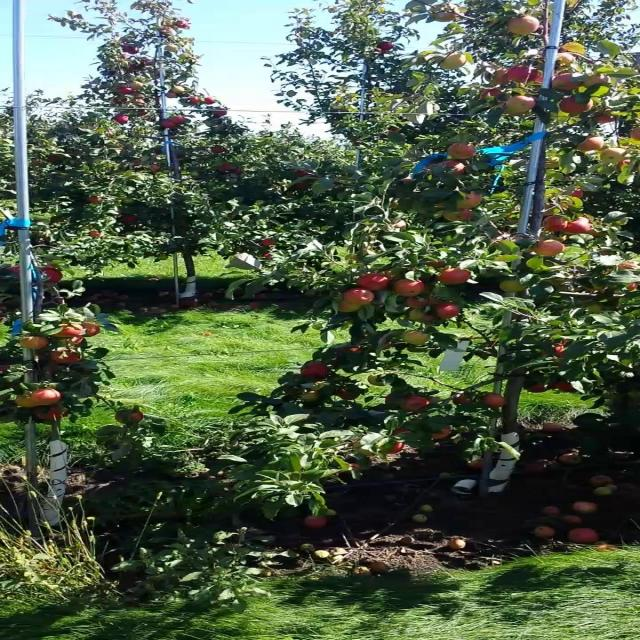apple: (561, 96, 596, 115), (532, 240, 567, 257), (511, 16, 540, 36), (504, 100, 539, 116), (35, 388, 64, 406), (440, 268, 471, 284), (397, 280, 427, 296), (447, 144, 476, 160), (348, 288, 377, 304), (554, 76, 583, 92), (20, 336, 50, 351), (404, 396, 432, 412), (362, 276, 391, 291), (511, 96, 539, 111), (440, 56, 468, 71), (518, 68, 546, 83), (447, 208, 475, 222), (568, 220, 592, 236), (404, 296, 436, 308), (404, 312, 436, 324), (604, 148, 628, 164), (35, 408, 66, 420), (461, 192, 484, 208), (404, 332, 432, 345), (547, 216, 569, 232), (42, 268, 64, 284), (440, 304, 462, 320), (582, 136, 604, 152), (56, 352, 85, 364), (554, 52, 576, 67), (511, 68, 532, 83), (305, 364, 329, 377), (13, 396, 37, 408), (120, 412, 144, 424), (504, 280, 526, 293), (340, 300, 363, 312), (483, 396, 505, 408), (433, 428, 455, 440), (447, 164, 469, 176), (383, 444, 405, 456), (490, 72, 512, 84), (483, 88, 505, 100), (554, 340, 569, 357), (383, 396, 404, 408), (618, 260, 638, 272), (589, 76, 612, 86), (504, 108, 530, 116), (525, 384, 548, 393), (340, 388, 357, 400), (376, 44, 396, 54), (618, 160, 636, 171), (426, 260, 448, 269), (84, 324, 100, 336), (440, 12, 459, 22), (561, 44, 581, 53), (596, 116, 617, 124), (532, 72, 546, 84), (63, 328, 80, 337), (454, 396, 473, 404), (305, 392, 320, 402), (589, 228, 604, 238), (70, 336, 85, 345), (6, 268, 21, 276), (561, 384, 576, 392), (163, 120, 178, 128), (113, 116, 128, 124), (340, 348, 363, 353), (625, 284, 639, 292), (575, 188, 585, 199), (120, 88, 133, 96), (1, 364, 14, 372), (49, 156, 62, 163), (141, 60, 155, 66), (170, 92, 180, 99), (134, 100, 148, 105), (127, 48, 140, 53), (134, 84, 142, 92), (404, 180, 414, 184), (127, 68, 135, 72)
